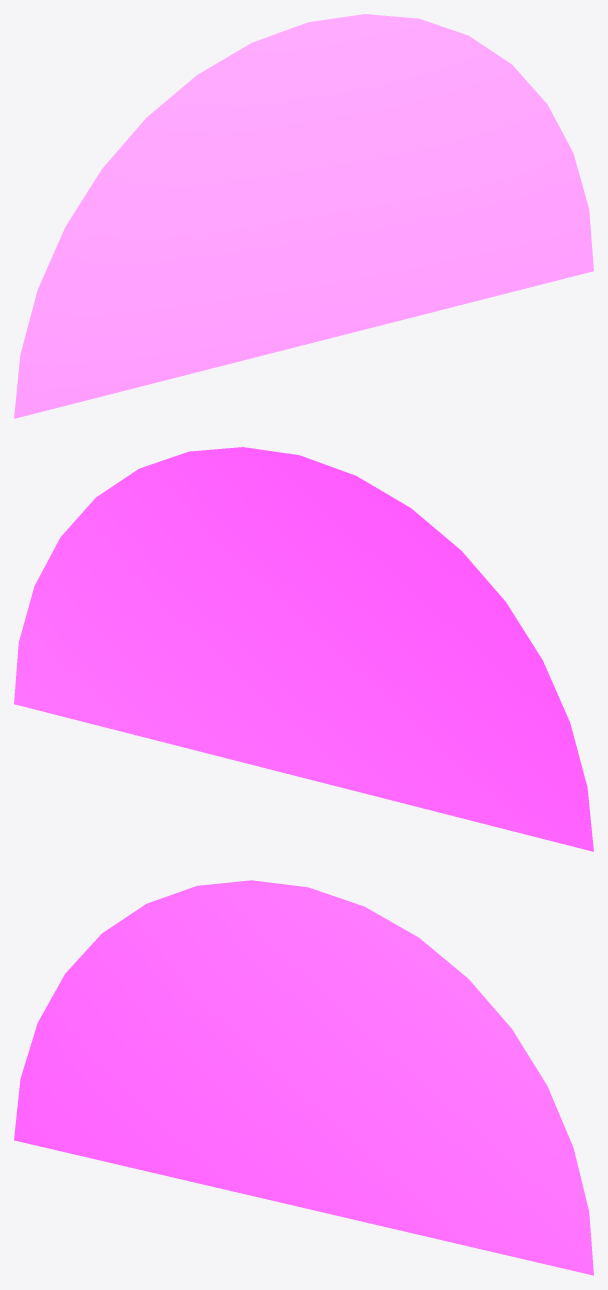
Rendered from pink screen.glb.
The picture shows the model from 3 angles, top to bottom: view 1: azimuth 30°, elevation 25°; view 2: azimuth 150°, elevation 25°; view 3: azimuth 330°, elevation 25°; orthographic projection.
Parts seen in each view (by area): view 1: backdoor.001; view 2: backdoor.001; view 3: backdoor.001.
Boxes of the visible parts, x1,y1,x2,y2 form: backdoor.001: (14, 14, 593, 418); backdoor.001: (14, 447, 593, 851); backdoor.001: (14, 880, 593, 1275).
Size of the model in its own units: 4.46 by 2.39 by 7.61e-07.
